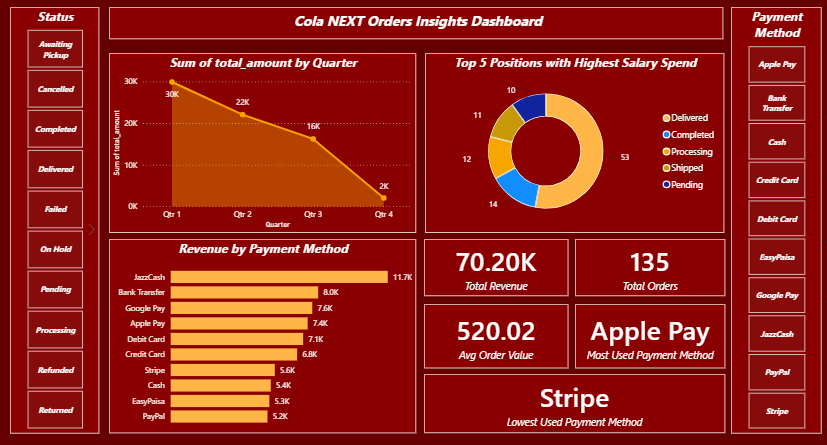

This screenshot's page, from the dashboard's own definition file:
{"tool":"powerbi","page":{"name":"Orders Insights","canvas":[1280,720],"ordinal":3},"visuals":[{"type":"textbox","box":[172.2,28.3,935.6,48.8],"z":0},{"type":"lineChart","fields":{"Y":["Sum(colanextdb orders.total_amount)"],"Category":["colanextdb orders.order_date.Variation.Date Hierarchy.Quarter"]},"box":[172.2,99,467.8,273.7],"z":1000},{"type":"clusteredBarChart","title":"Revenue by Payment Method","fields":{"Category":["colanextdb orders.payment_method"],"Y":["Sum(colanextdb orders.total_amount)"]},"box":[172.2,383,467.8,295.6],"z":2000},{"type":"slicer","title":"Status","fields":{"Values":["colanextdb orders.status"]},"box":[21.8,28.3,136.2,650.3],"z":3000},{"type":"slicer","title":"Payment Method","fields":{"Values":["colanextdb orders.payment_method"]},"box":[1120.6,28.3,137.5,650.3],"z":4000},{"type":"pieChart","title":"Top 5 Positions with Highest Salary Spend","fields":{"Category":["colanextdb orders.status"],"Y":["CountNonNull(colanextdb orders.order_id)"]},"box":[654.1,99,456.2,273.7],"z":5000},{"type":"card","fields":{"Values":["Sum(colanextdb orders.total_amount)"]},"box":[651.6,383,219.8,87.4],"z":6000},{"type":"card","fields":{"Values":["colanextdb customers.AOV"]},"box":[651.6,481.9,219.8,97.7],"z":7000},{"type":"card","fields":{"Values":["Max(colanextdb orders.payment_method)"]},"box":[651.6,588.6,458.8,90],"z":8000},{"type":"card","fields":{"Values":["CountNonNull(colanextdb orders.order_id)"]},"box":[881.6,383,228.8,87.4],"z":9000},{"type":"card","fields":{"Values":["Min(colanextdb orders.payment_method)"]},"box":[881.6,481.9,228.8,97.7],"z":10000}]}

Visuals, with their boxes on the page's 1280x720 design canvas (x1, y1, x2, y2). These are canvas units, not pixel positions in the 827x445 screenshot, which may show the page scaled, cropped or inside an application window:
textbox: 172:28:1108:77
lineChart - Sum(colanextdb orders.total_amount) x colanextdb orders.order_date.Variation.Date Hierarchy.Quarter: 172:99:640:373
"Revenue by Payment Method" clusteredBarChart: 172:383:640:679
"Status" slicer: 22:28:158:679
"Payment Method" slicer: 1121:28:1258:679
"Top 5 Positions with Highest Salary Spend" pieChart: 654:99:1110:373
card - Sum(colanextdb orders.total_amount): 652:383:871:470
card - colanextdb customers.AOV: 652:482:871:580
card - Max(colanextdb orders.payment_method): 652:589:1110:679
card - CountNonNull(colanextdb orders.order_id): 882:383:1110:470
card - Min(colanextdb orders.payment_method): 882:482:1110:580
